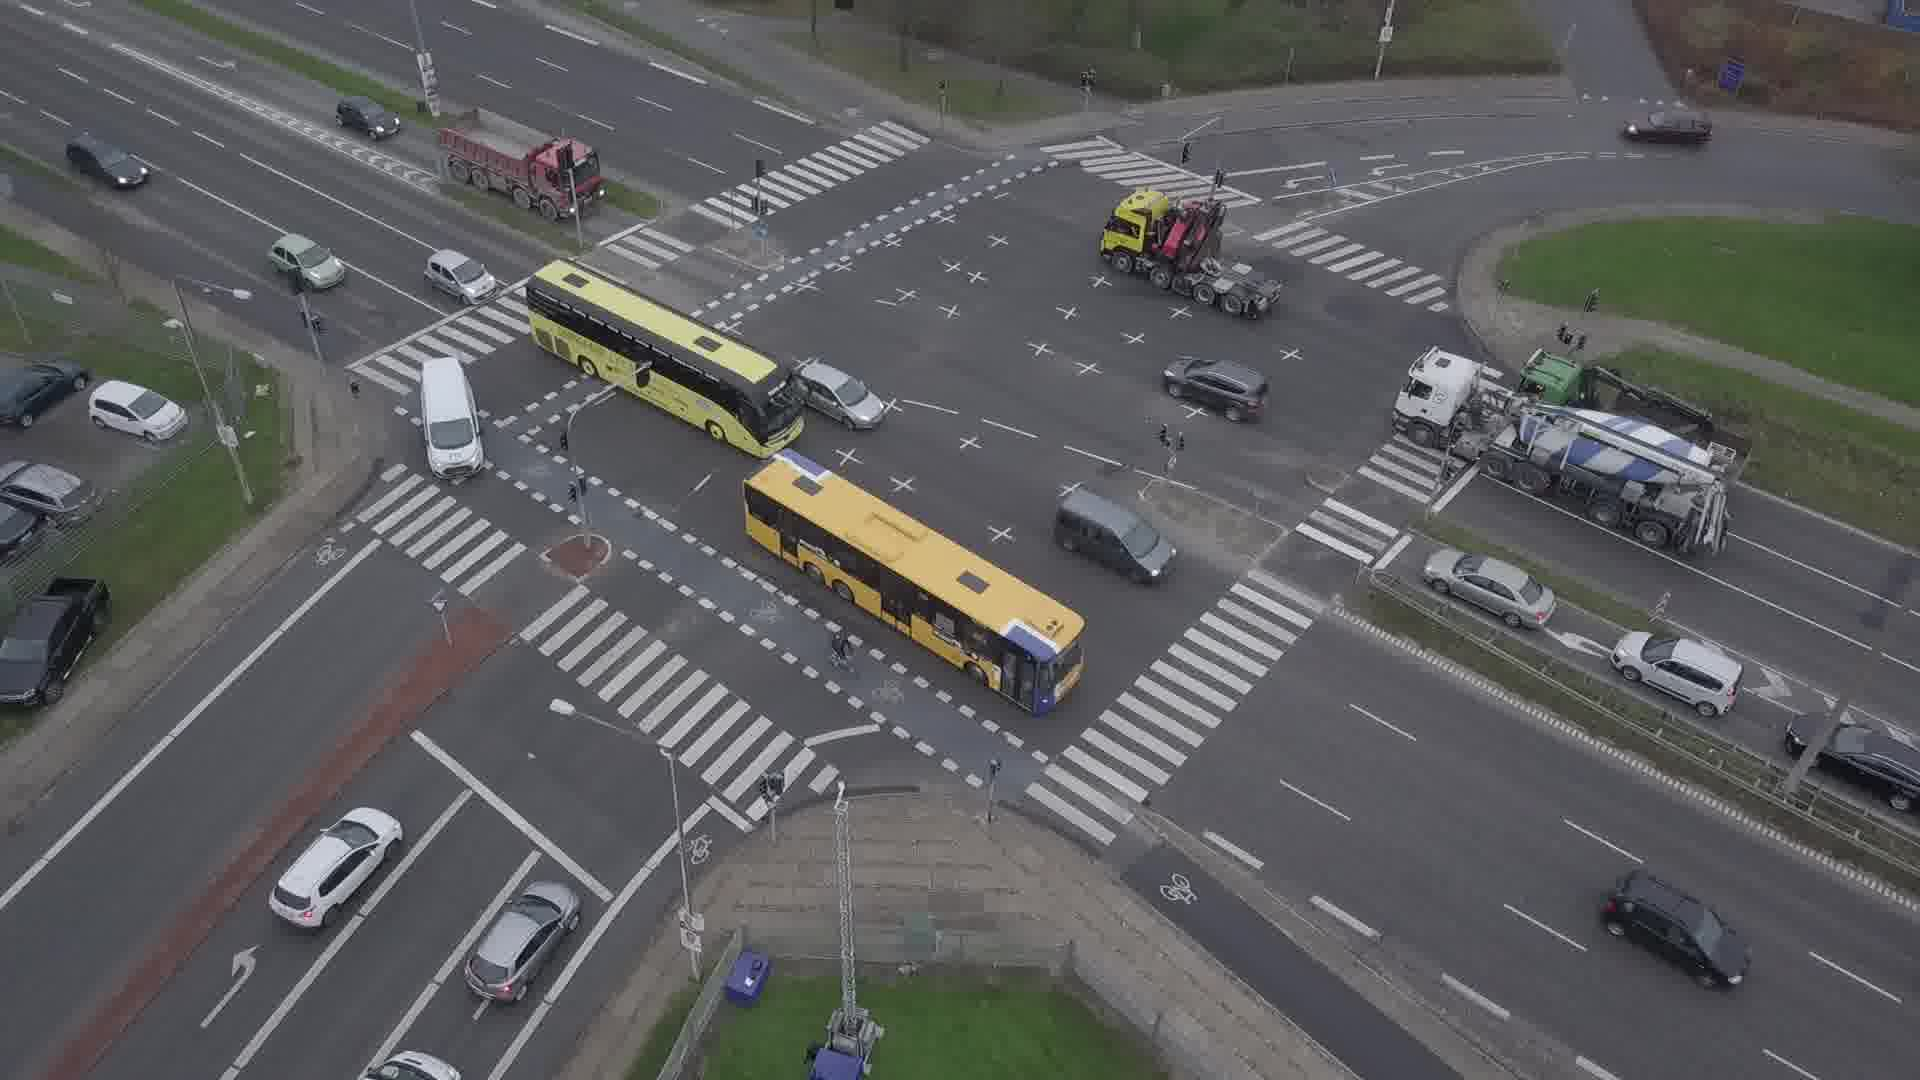bicycle: (819, 632, 863, 685)
bus: (742, 446, 1086, 714), (530, 256, 813, 457)
car: (1604, 872, 1752, 987), (268, 807, 404, 927), (464, 880, 582, 1003), (1787, 714, 1920, 813), (1611, 630, 1747, 717), (1056, 488, 1176, 581), (1424, 548, 1559, 628), (1161, 354, 1272, 423), (802, 361, 884, 429), (65, 134, 147, 189), (268, 232, 345, 290), (425, 248, 499, 304), (1626, 109, 1713, 147), (335, 94, 401, 141)
lorry: (1391, 346, 1738, 554), (1520, 353, 1747, 475), (1096, 186, 1291, 319), (437, 104, 606, 220), (419, 356, 484, 480)
